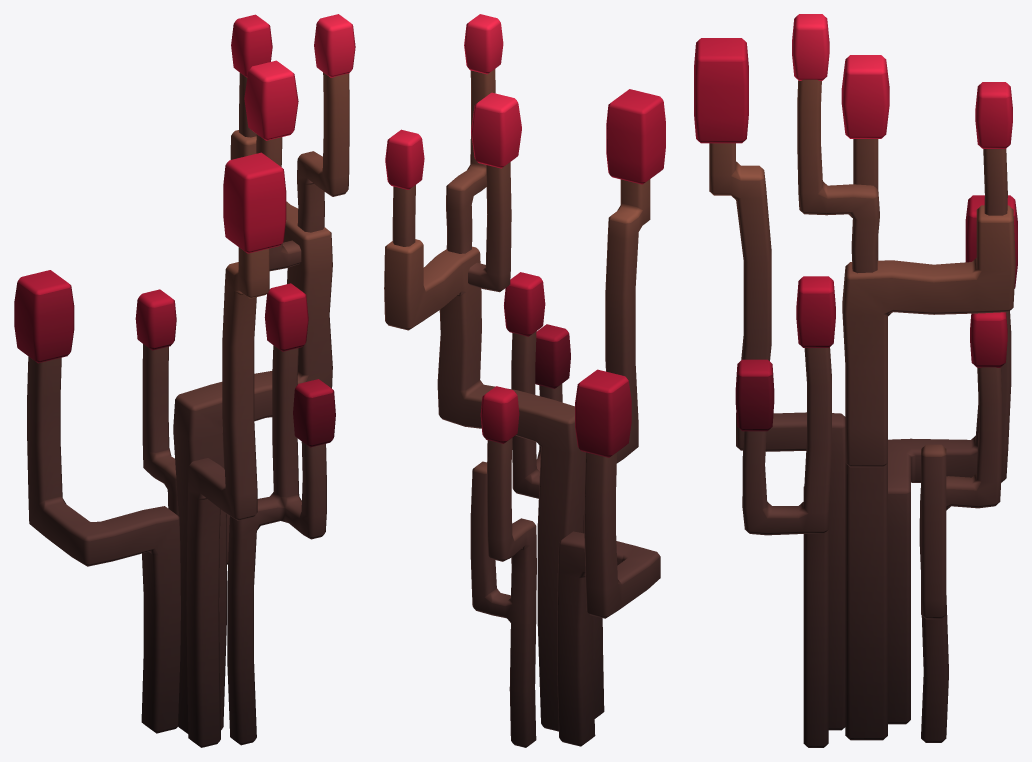
File: shrub_02.fbx
The picture shows the model from 3 angles, left to right: view 1: azimuth 30°, elevation 25°; view 2: azimuth 150°, elevation 25°; view 3: azimuth 270°, elevation 25°; orthographic projection. The views are drawn at different scales.
Parts seen in each view (by area): view 1: shrub_02; view 2: shrub_02; view 3: shrub_02.
Part boxes in pixels (left/top/right/bottom): shrub_02: left=14, top=14, right=355, bottom=747; shrub_02: left=384, top=14, right=665, bottom=747; shrub_02: left=694, top=14, right=1017, bottom=747.
Size of the model in its own units: 161 by 439 by 167.
